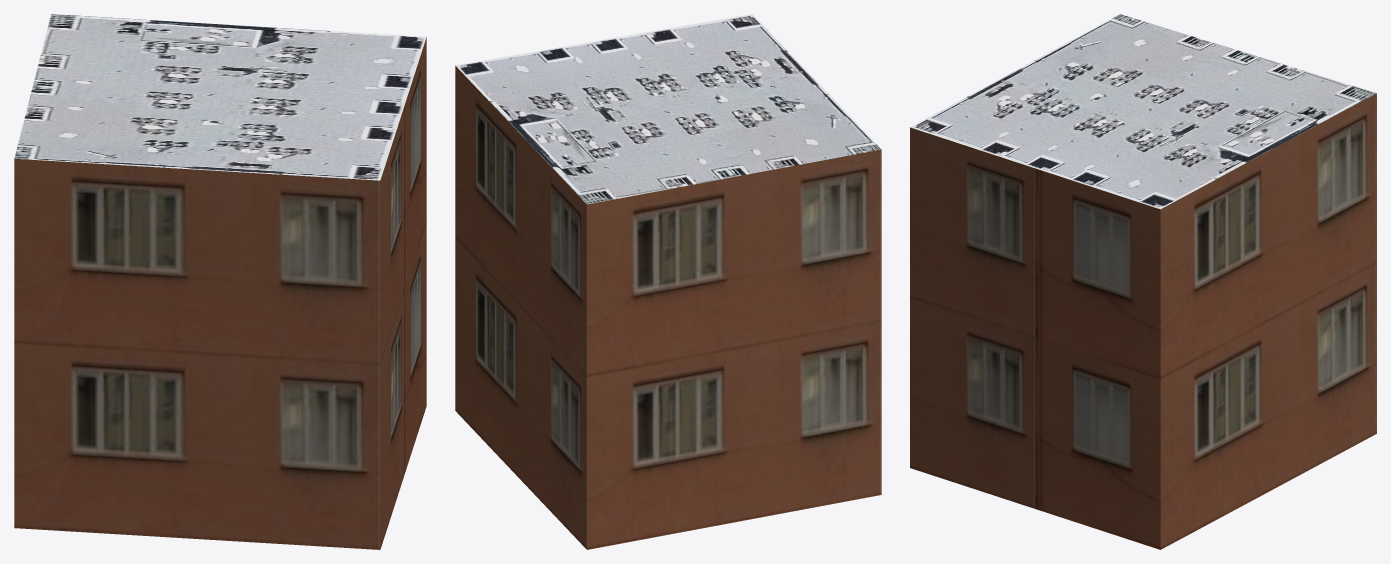
Rendered from ResTex__1406.fbx.
3 views of the same model, side by side, from view 1: azimuth 30°, elevation 25°; view 2: azimuth 150°, elevation 25°; view 3: azimuth 270°, elevation 25° (orthographic). The views are drawn at different scales.
Visible parts, largest first — view 1: CityEngineMaterial_20_m, CityEngineMaterial_8_m; view 2: CityEngineMaterial_20_m, CityEngineMaterial_8_m; view 3: CityEngineMaterial_20_m, CityEngineMaterial_8_m.
Part boxes in pixels (x1=…): CityEngineMaterial_20_m: x1=14, y1=37, x2=426, y2=549; CityEngineMaterial_8_m: x1=14, y1=14, x2=426, y2=180; CityEngineMaterial_20_m: x1=455, y1=66, x2=881, y2=549; CityEngineMaterial_8_m: x1=455, y1=14, x2=881, y2=204; CityEngineMaterial_20_m: x1=910, y1=93, x2=1376, y2=549; CityEngineMaterial_8_m: x1=910, y1=14, x2=1376, y2=209.
Size of the model in its own units: 7.38 by 6 by 7.45.
Materials: 2 (2 with a texture image).
